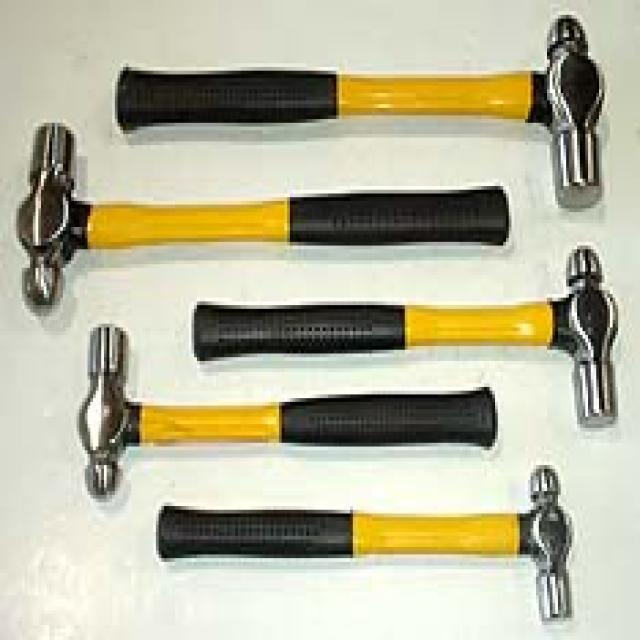hammer: (80, 10, 617, 208), (197, 242, 635, 420), (14, 116, 356, 312), (266, 448, 606, 631), (66, 315, 365, 516)
